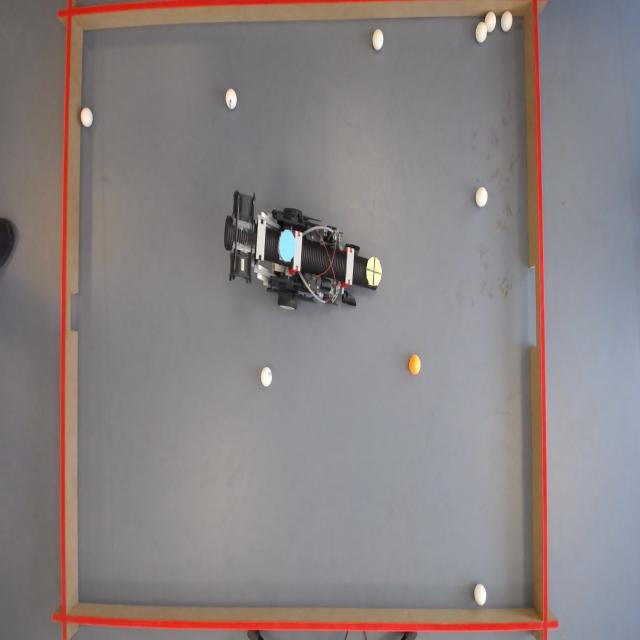orange: (409, 355, 423, 374)
robot: (224, 198, 385, 311)
robot-front: (368, 256, 384, 288)
robot-rear: (277, 230, 297, 264)
white: (474, 582, 488, 606), (372, 29, 386, 51), (80, 106, 93, 127), (224, 90, 237, 110), (500, 11, 513, 31), (261, 366, 273, 387), (477, 186, 489, 207), (475, 23, 488, 42), (485, 11, 497, 31)
